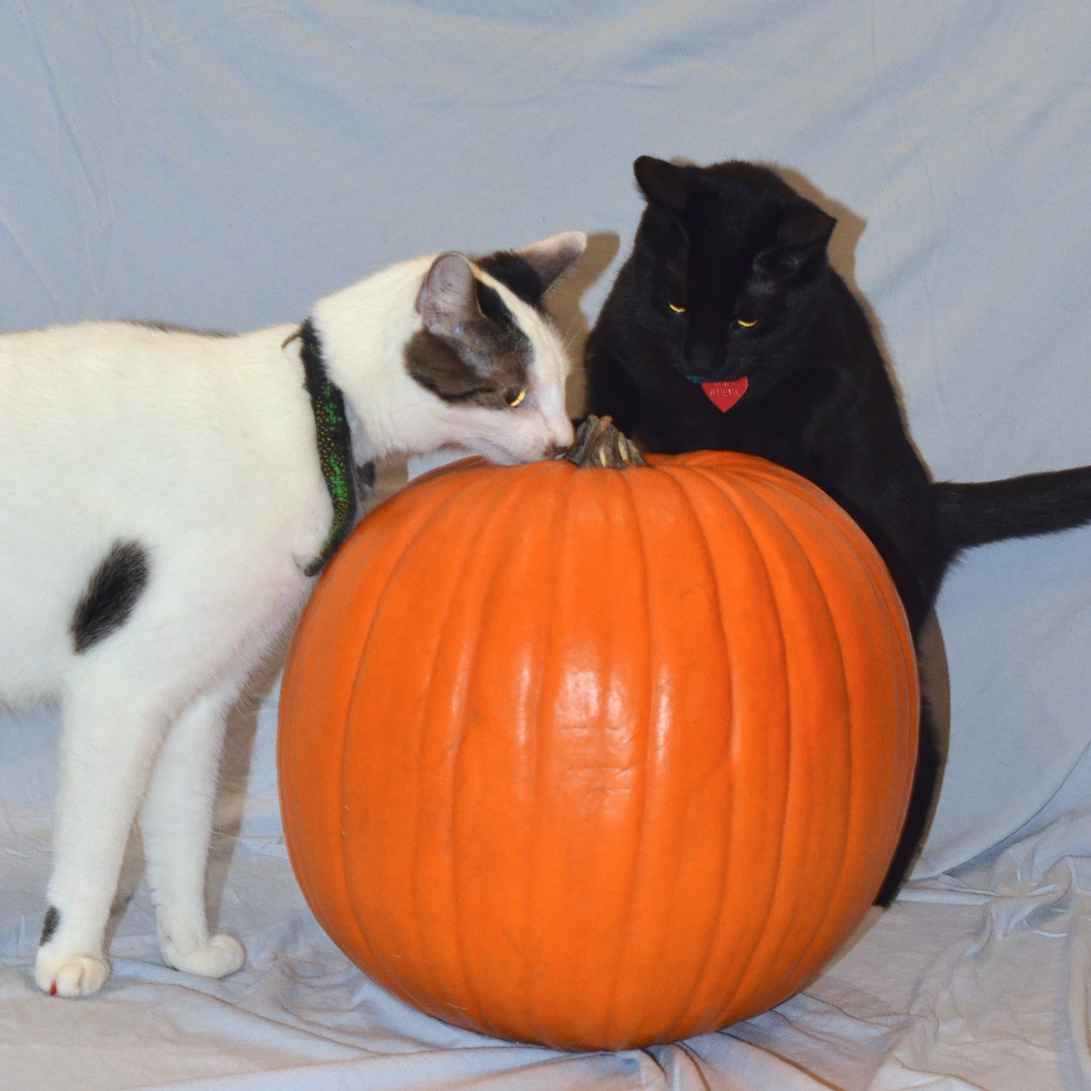cat: (0, 226, 588, 1006), (586, 157, 1090, 910)
